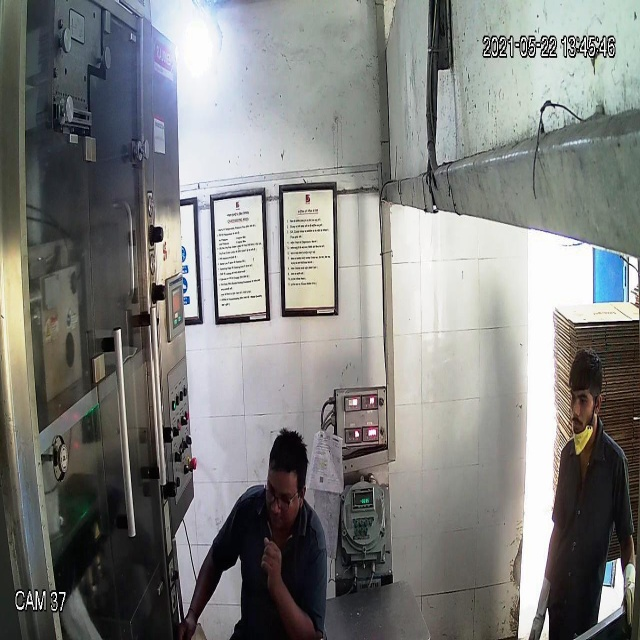Gafas: (262, 479, 306, 513)
Sin_gafas: (567, 386, 602, 412)
